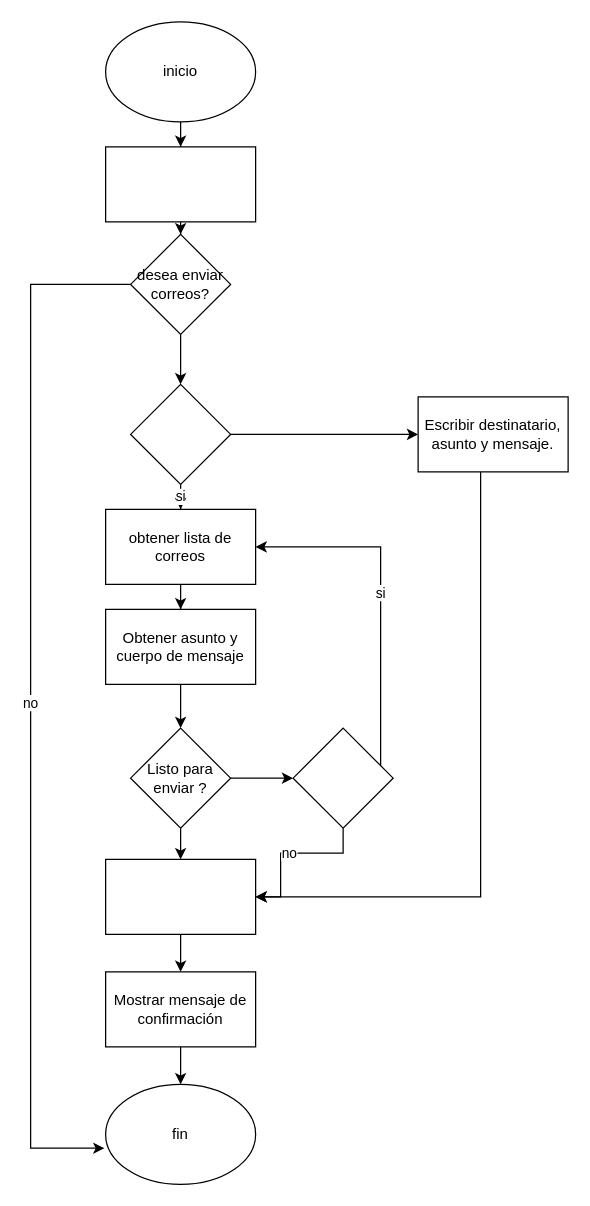
The diagram is 590 pixels wide and 1206 high, and some of its shapes have lost their labels. The box of each missing label's shape, as (x1, y1, x2, y2) in pixels:
desea modificar algo ?: (292, 727, 393, 828)
Enviar correos: (104, 858, 256, 934)
iniciar sesion: (104, 146, 256, 222)
Mas de un correo ?: (129, 383, 231, 484)
